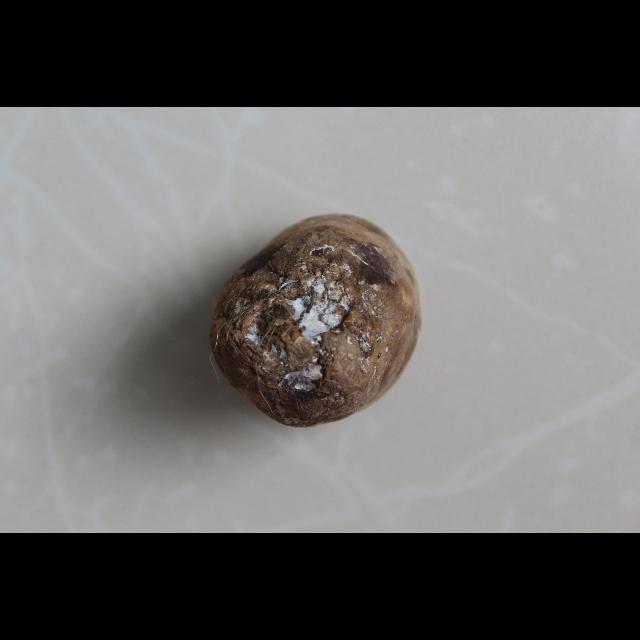Diseased-fungal potato: (210, 206, 440, 432)
